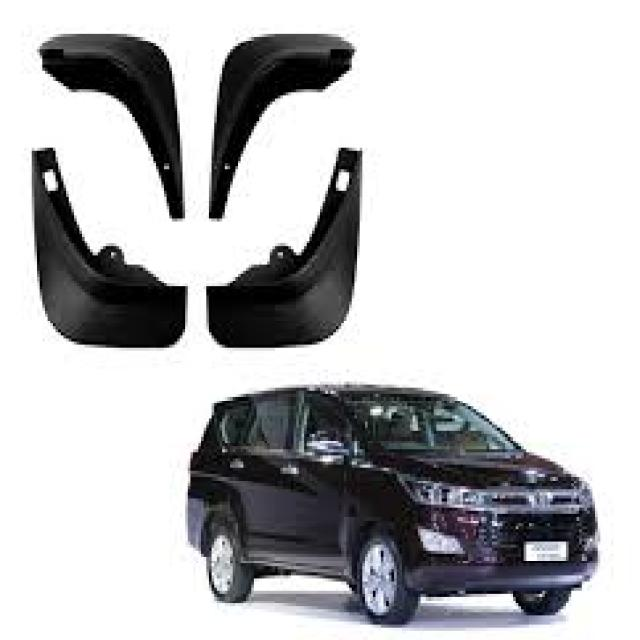light_vehicle: (186, 383, 600, 627)
